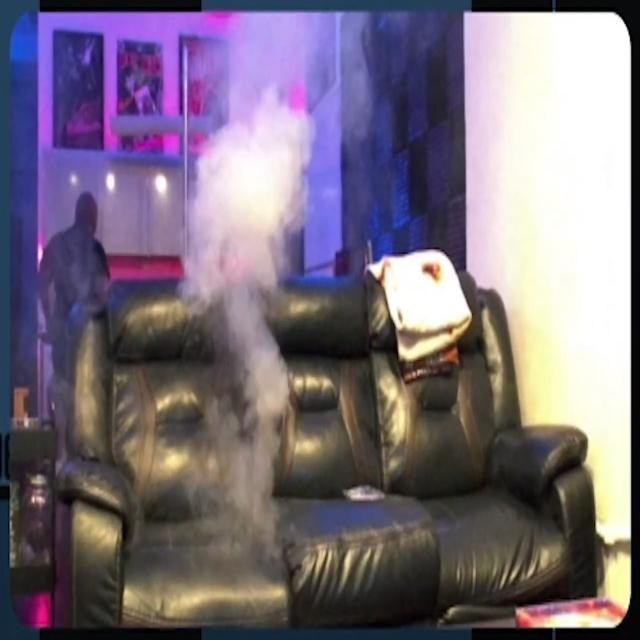Smoke: (200, 100, 304, 548)
